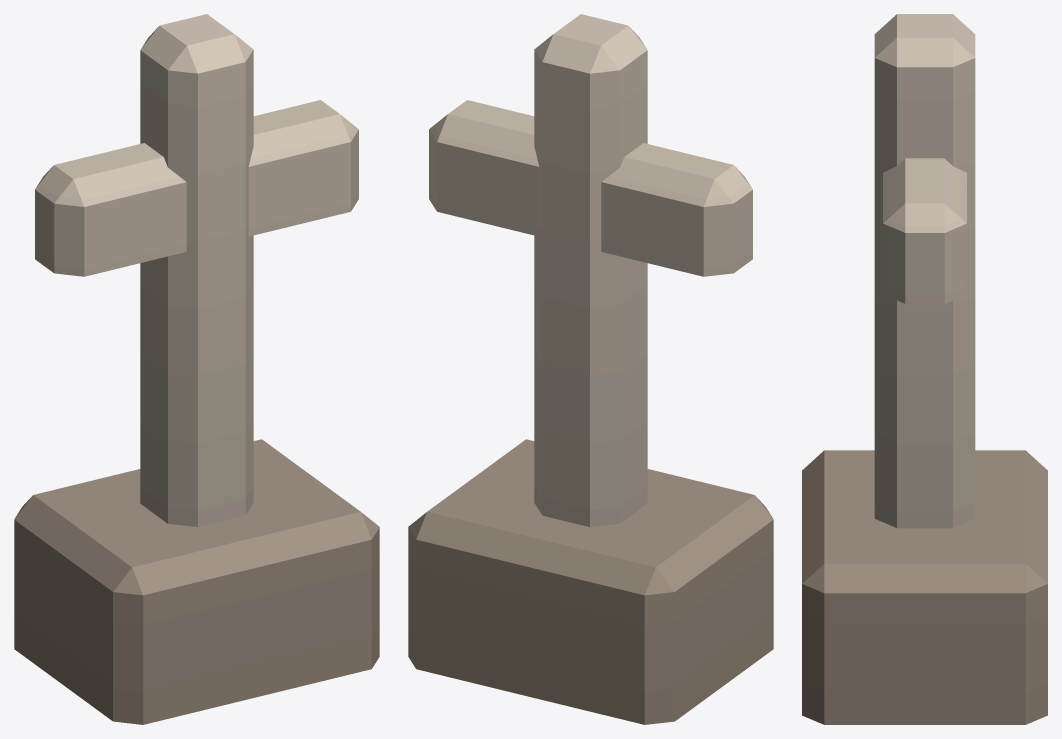
Rendered from headstone_3.glb.
3 renders of one model, left to right at view 1: azimuth 30°, elevation 25°; view 2: azimuth 150°, elevation 25°; view 3: azimuth 270°, elevation 25°, orthographic.
Parts seen in each view (by area): view 1: headstone_3; view 2: headstone_3; view 3: headstone_3.
Boxes of the visible parts, box(x1,y1,x2,y2) form: headstone_3: box(14, 14, 379, 724); headstone_3: box(408, 14, 773, 724); headstone_3: box(802, 14, 1047, 724).
Size of the model in its own units: 0.64 by 1.25 by 0.44.
Materials: 1 (1 with a texture image).
